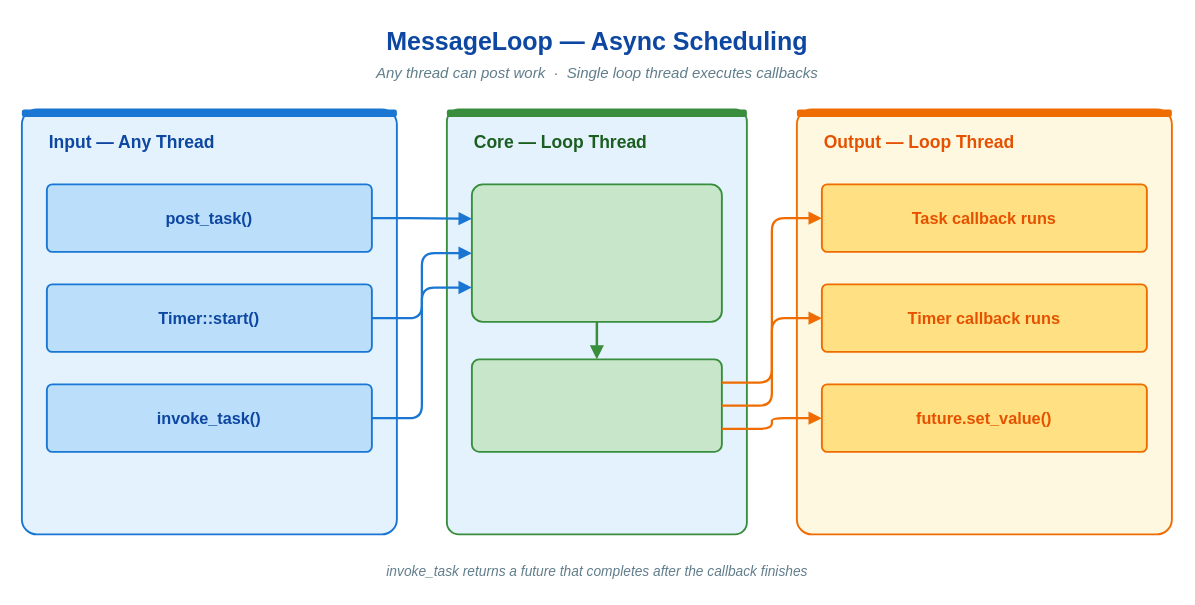
Some shapes in this 1195 by 605 pixel diagram are drawn without their labels. Here are the shapes that lost their labels. From the top down, the centre of each, then its label:
At point (596, 252): "TaskQueue + TimerRegistry".
At point (596, 405): "LoopThread dispatch()".
